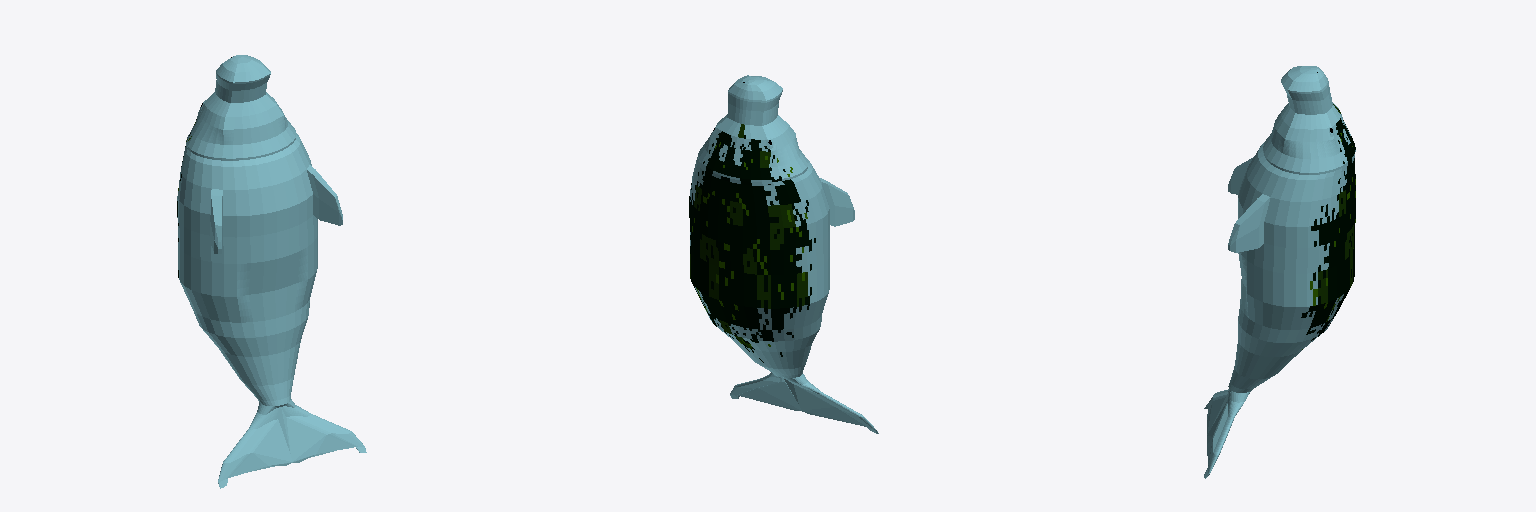
File: dugongOrient.obj
3 renders of one model, left to right at view 1: azimuth 30°, elevation 25°; view 2: azimuth 150°, elevation 25°; view 3: azimuth 270°, elevation 25°, orthographic.
Parts seen in each view (by area): view 1: Circle; view 2: Circle; view 3: Circle.
Part boxes in pixels (x1,y1,x2,y2): Circle: (177,55,366,488); Circle: (689,75,878,433); Circle: (1204,66,1355,478).
Size of the model in its own units: 2.31 by 5.62 by 2.06.